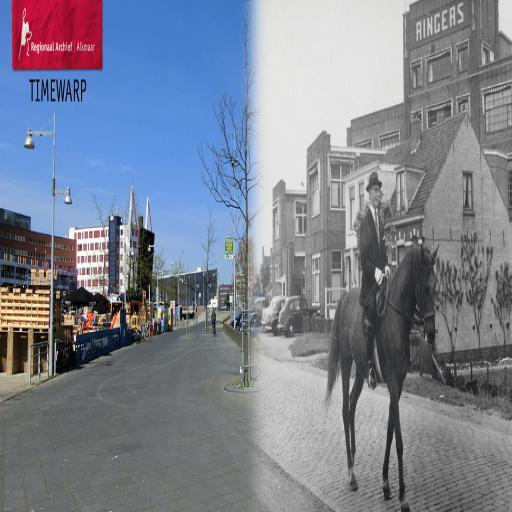horse: (323, 244, 439, 512)
